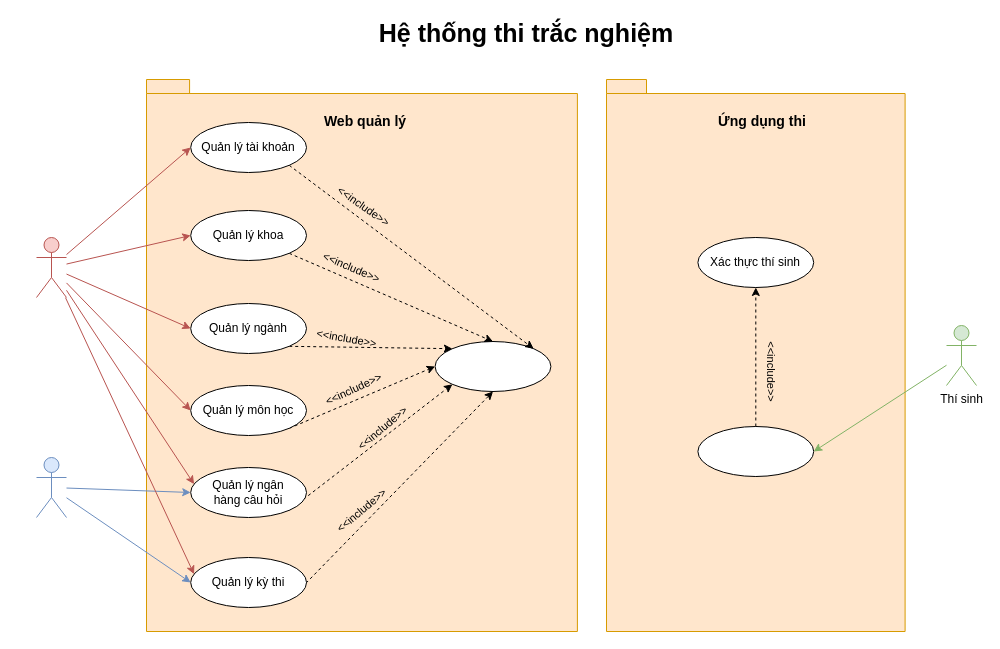
Some shapes in this 1000 by 649 pixel diagram are drawn without their labels. Each missing label, with the centre of its shape:
"Giáo viên" belongs at point (51, 487).
"Làm bài" belongs at point (755, 451).
"Quản trị viên" belongs at point (51, 267).
"Đăng nhập" belongs at point (492, 366).
